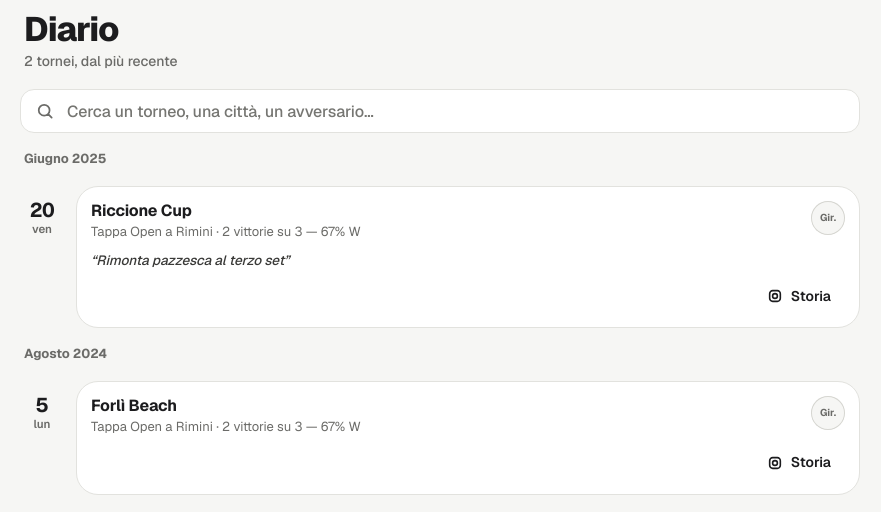
Test: Diario — campo di ricerca › due termini si intersecano, non si sommano
Expected: the link "Riccione Cup" is shown, [91, 200, 192, 221]
Click the search field named "Cerca nel diario" at x=435, y=111, box [65, 90, 805, 132]
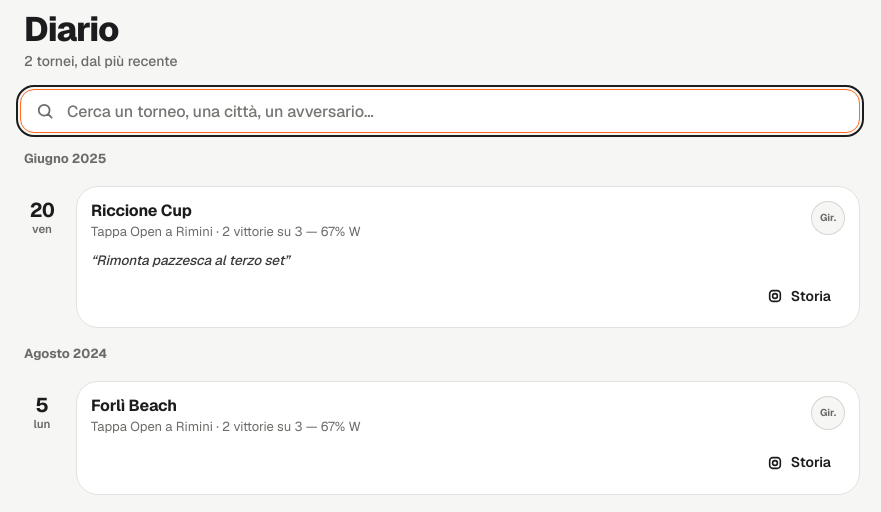
Type keys "riccione 2025"
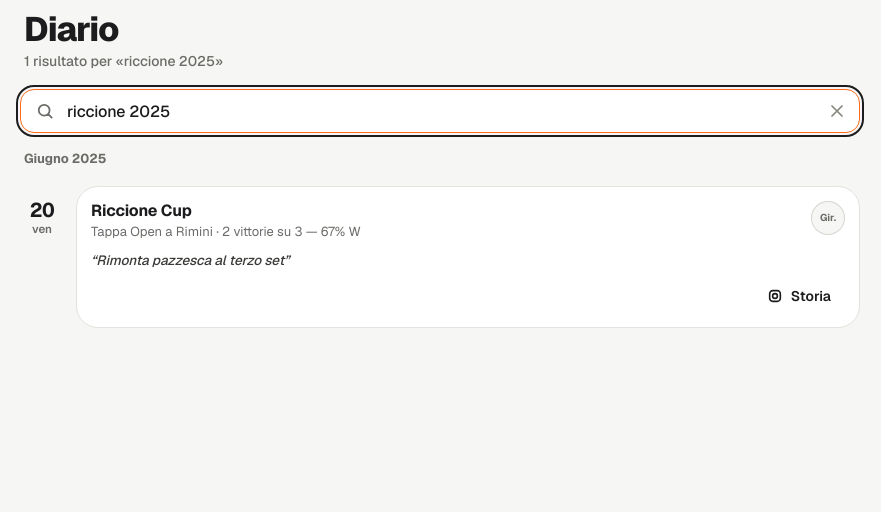
Type keys "{Backspace}{Backspace}{Backspace}{Backspace}2024"
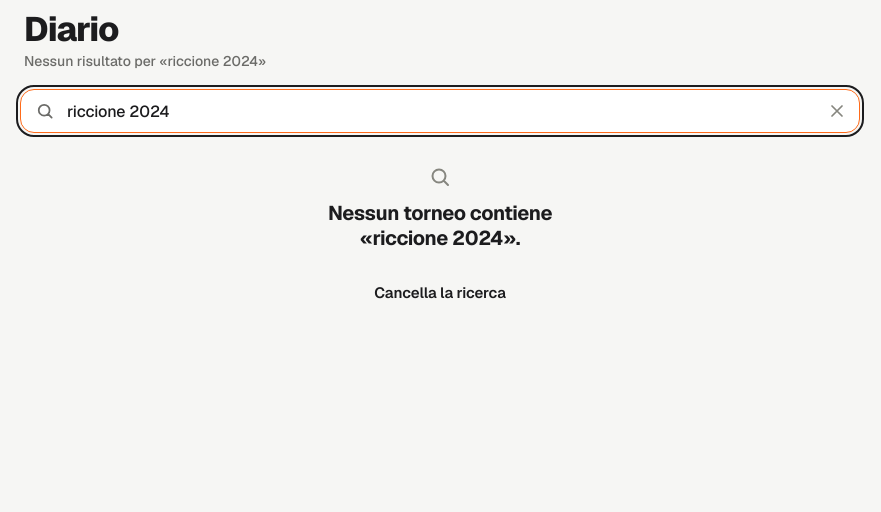
Expected: the message shows "Nessun risultato", [24, 52, 266, 70]
